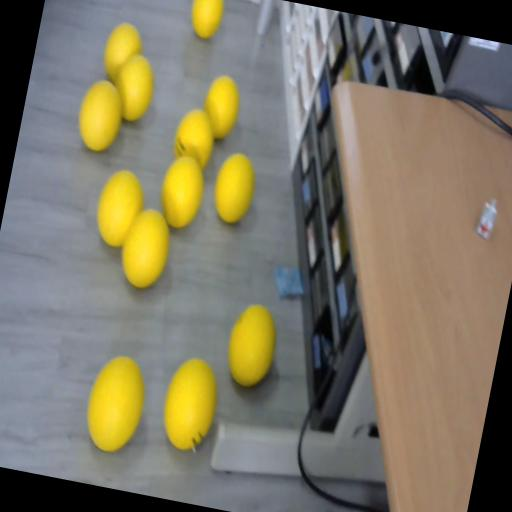FUEL: (80, 350, 152, 456), (154, 352, 224, 454), (221, 298, 283, 391), (114, 203, 177, 293), (89, 164, 150, 252), (72, 75, 129, 156), (155, 152, 209, 230), (208, 150, 260, 226), (109, 50, 160, 126), (198, 72, 246, 142), (185, 0, 226, 41)
